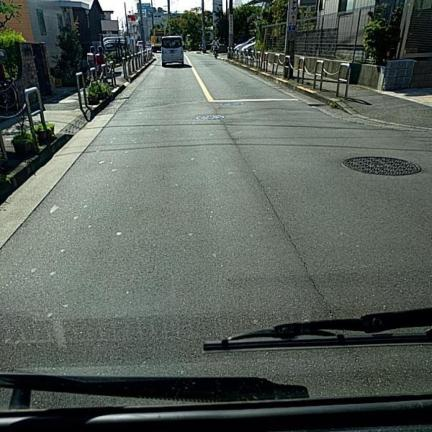Road: (0, 54, 431, 396)
